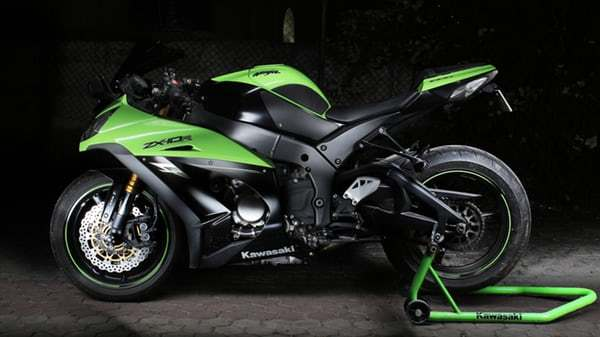14_label: (50, 45, 542, 299)
